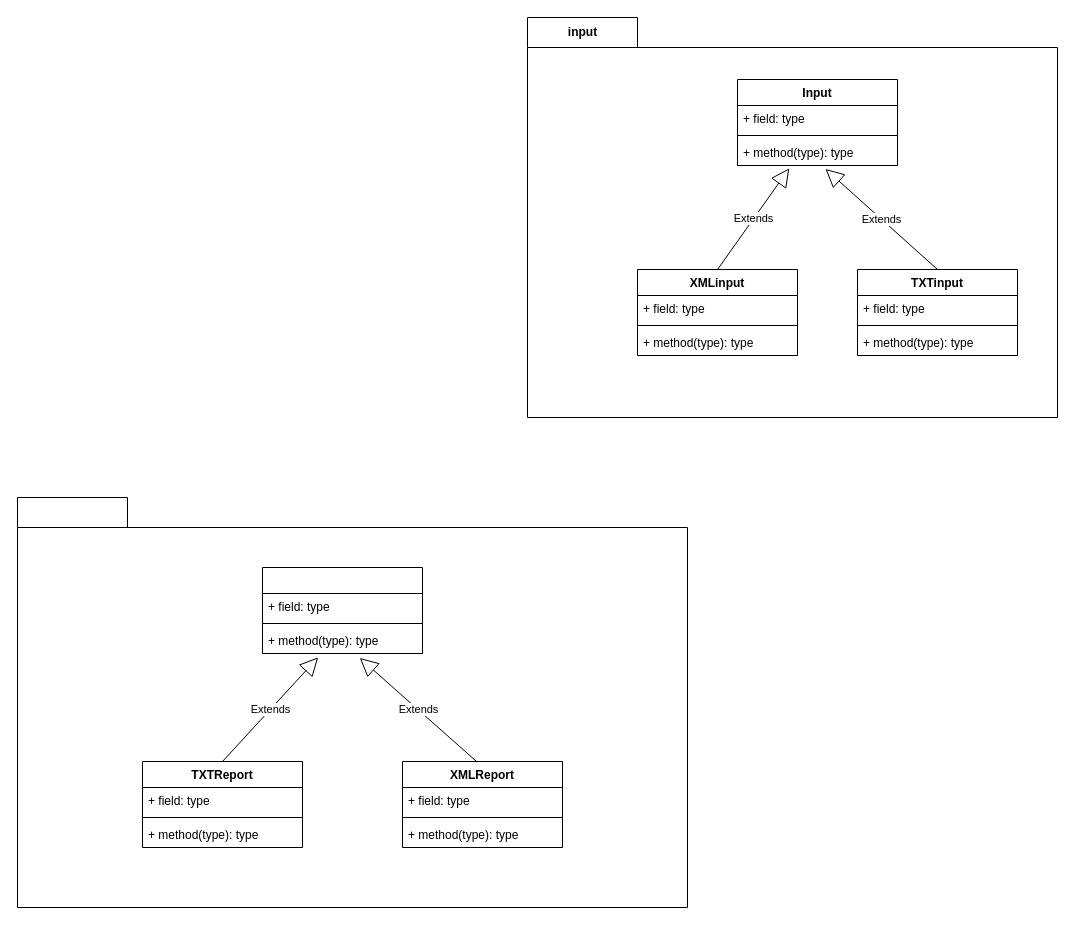
Image size: 1075x925. Some labels were removed from this diagram. Here are the shapes that lost their labels. From the top down, the box of each, then its label:
(262, 566, 422, 654): Report
(16, 496, 688, 908): Output
